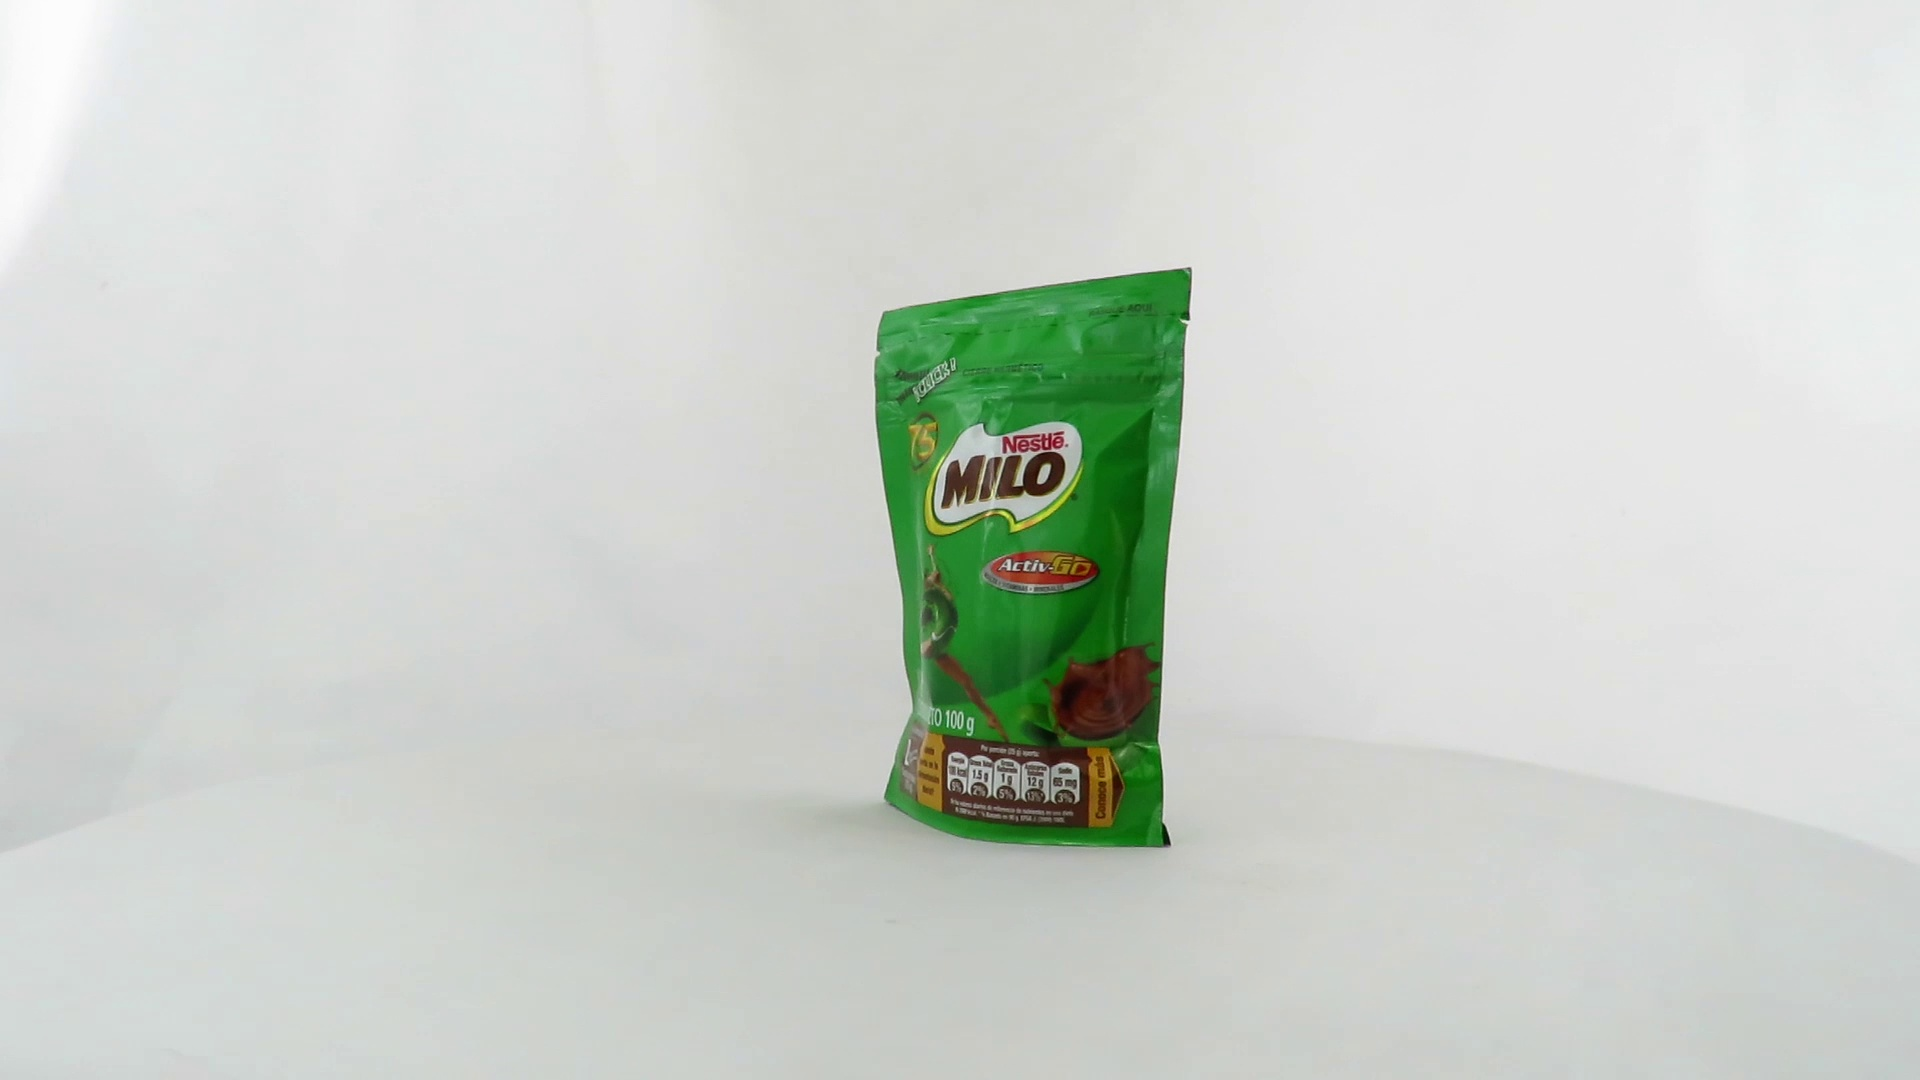COL0170203DYP10000: (848, 262, 1197, 855)
